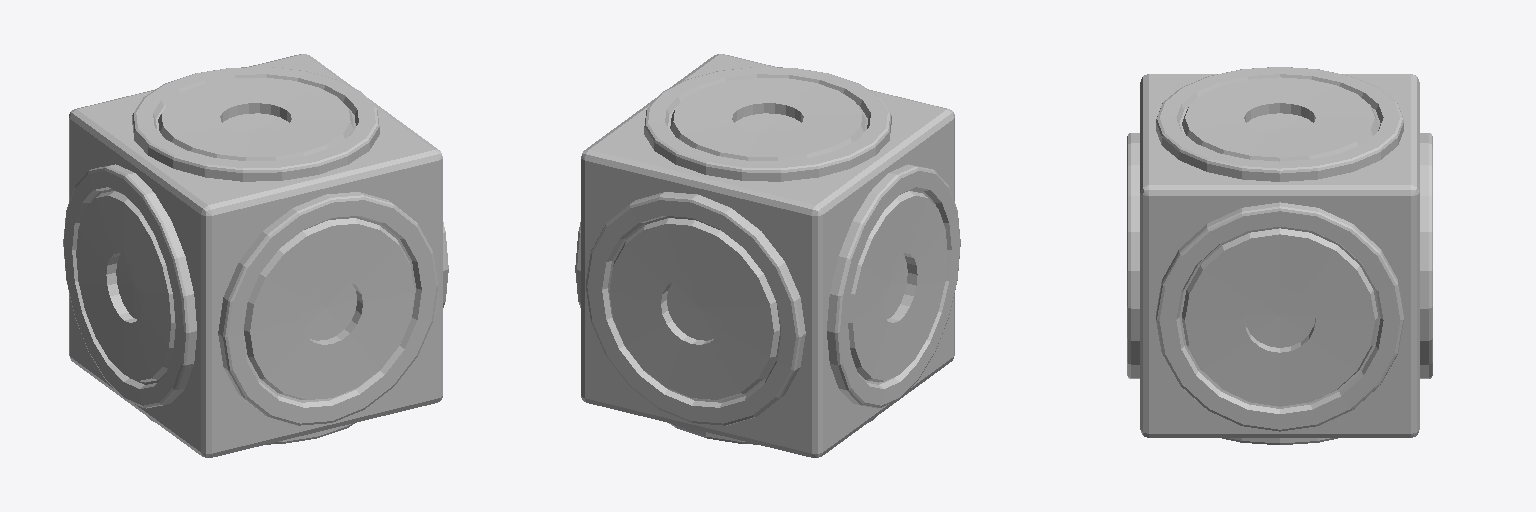
The model's file is tuozhan.obj.
The picture shows the model from 3 angles: view 1: azimuth 30°, elevation 25°; view 2: azimuth 150°, elevation 25°; view 3: azimuth 270°, elevation 25°; orthographic projection.
Visible parts, largest first — view 1: tuozhan:_low__pCylinder1; view 2: tuozhan:_low__pCylinder1; view 3: tuozhan:_low__pCylinder1.
Part boxes in pixels (x1,y1,x2,y2): tuozhan:_low__pCylinder1: (63, 54, 448, 457); tuozhan:_low__pCylinder1: (575, 54, 960, 457); tuozhan:_low__pCylinder1: (1127, 67, 1432, 444).
Bounding box in the file's own units: 99.39 × 99.39 × 99.39.